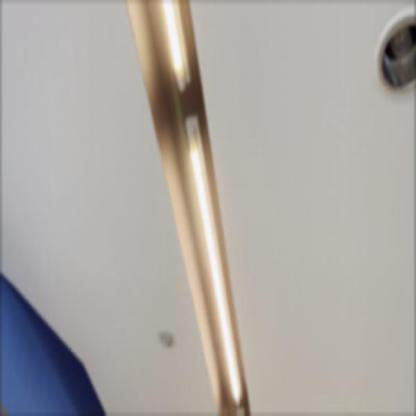light_on: (183, 112, 254, 412), (160, 1, 198, 95)
